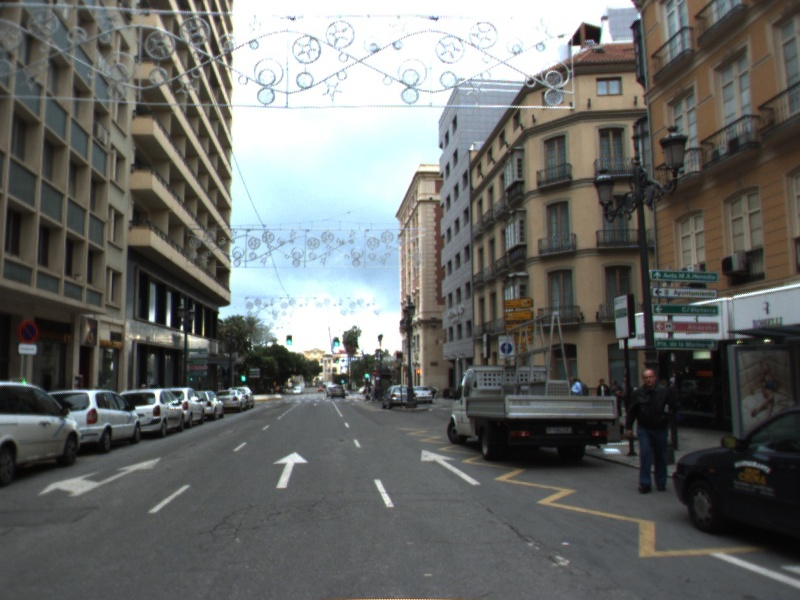STRAIGHT: (418, 447, 484, 486), (270, 449, 311, 490)
STRAIGHT_LEFT: (35, 455, 165, 499)
